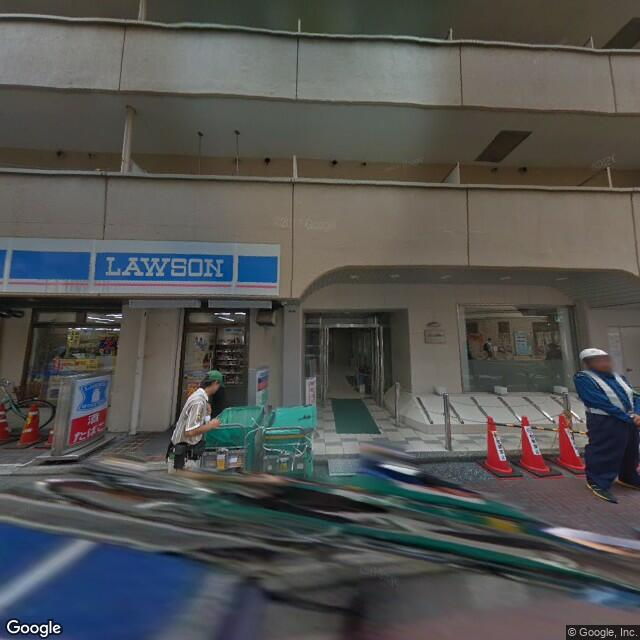lawson: (1, 231, 285, 301), (77, 372, 113, 416)
